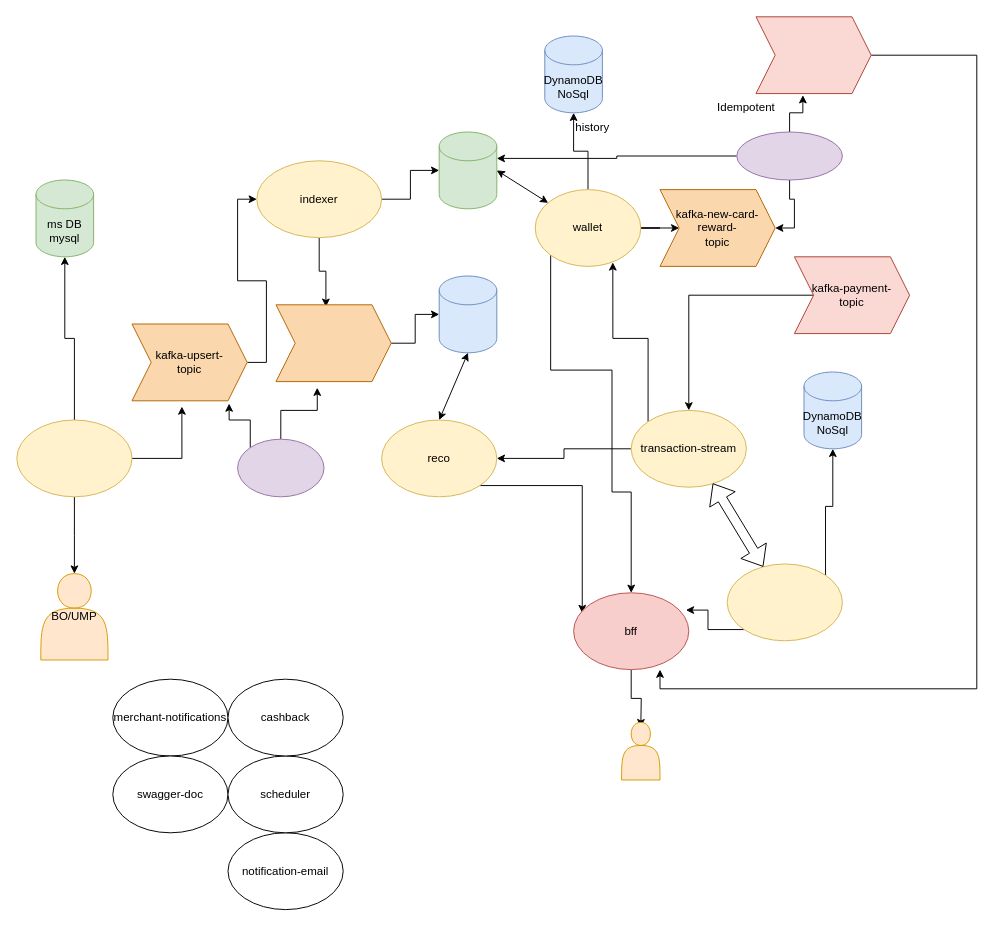
Some shapes in this 1001 by 926 pixel diagram are drawn without their labels. Each missing label, with the centre of its shape:
ES NoSql: point (467, 314)
FE: point (640, 750)
Kafka-retry-job: point (280, 467)
kafka-sync- topic: point (333, 343)
ms: point (74, 458)
notifications -topic: point (813, 55)
transaction-api: point (784, 602)
user-notifications: point (789, 155)
wallet DB mysql: point (467, 170)
